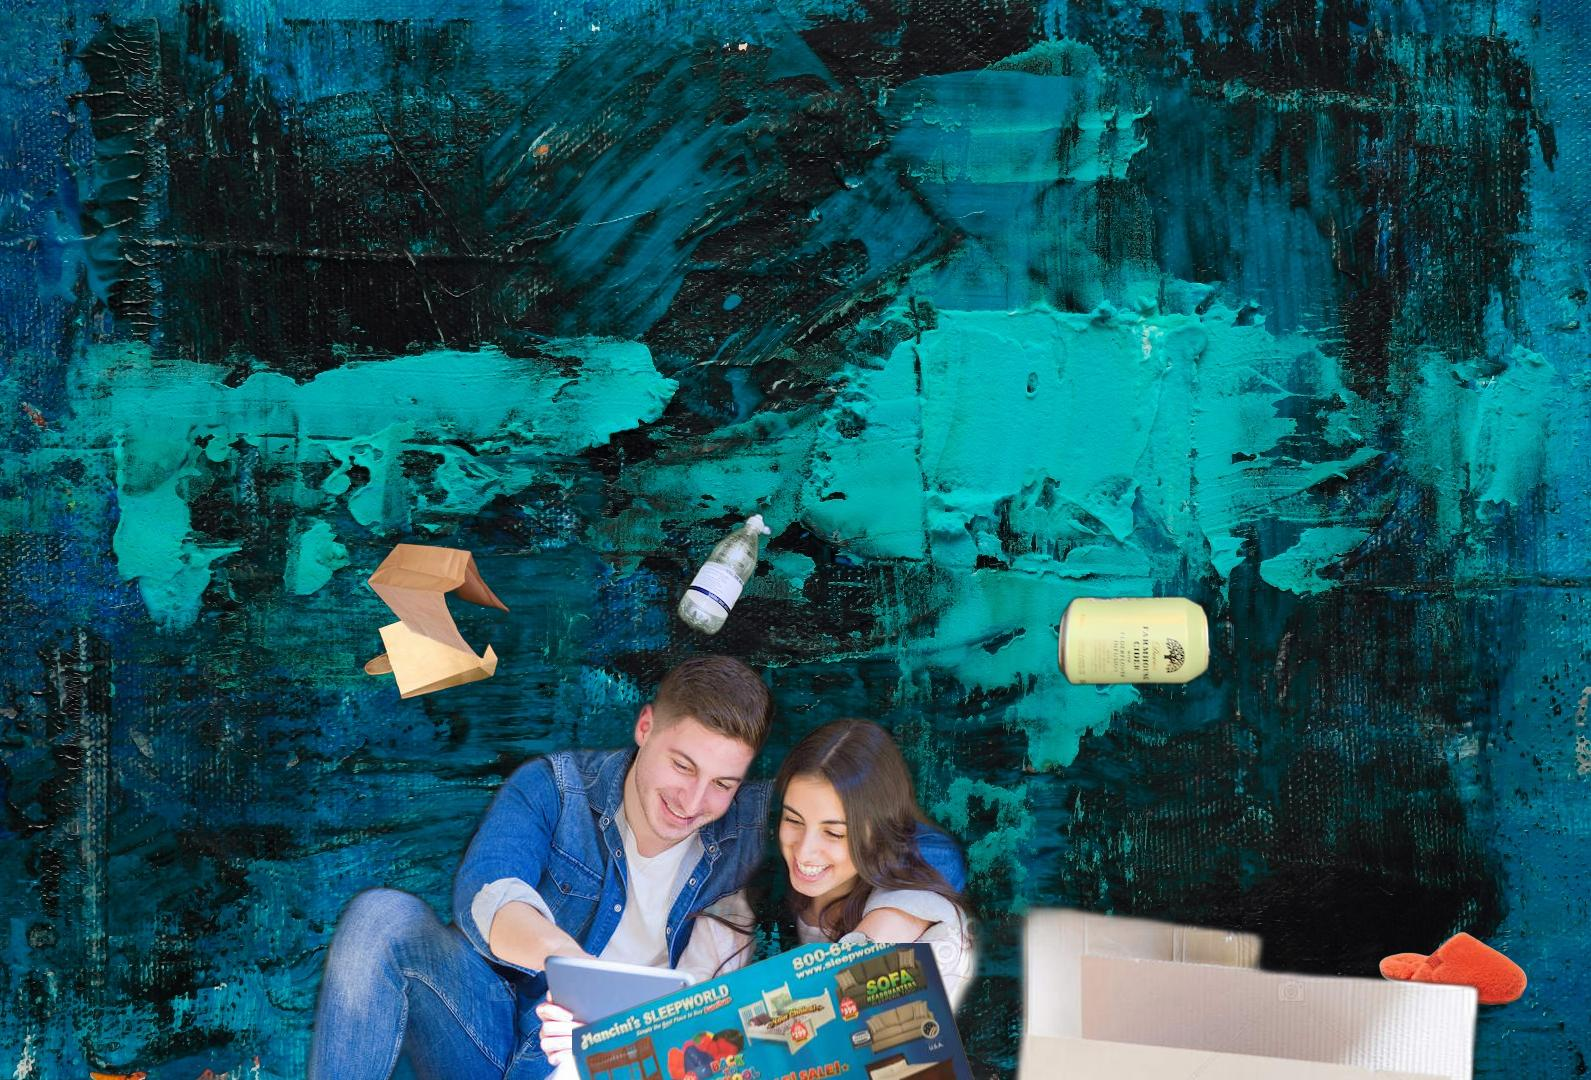metal-cans: (1053, 589, 1215, 691)
paper: (573, 943, 1026, 1080)
paper-bag: (362, 540, 513, 702)
plastic-bottles: (671, 507, 777, 642)
shoes: (1376, 929, 1530, 1008)
trashbox-cardboard: (13, 644, 1495, 1080)
